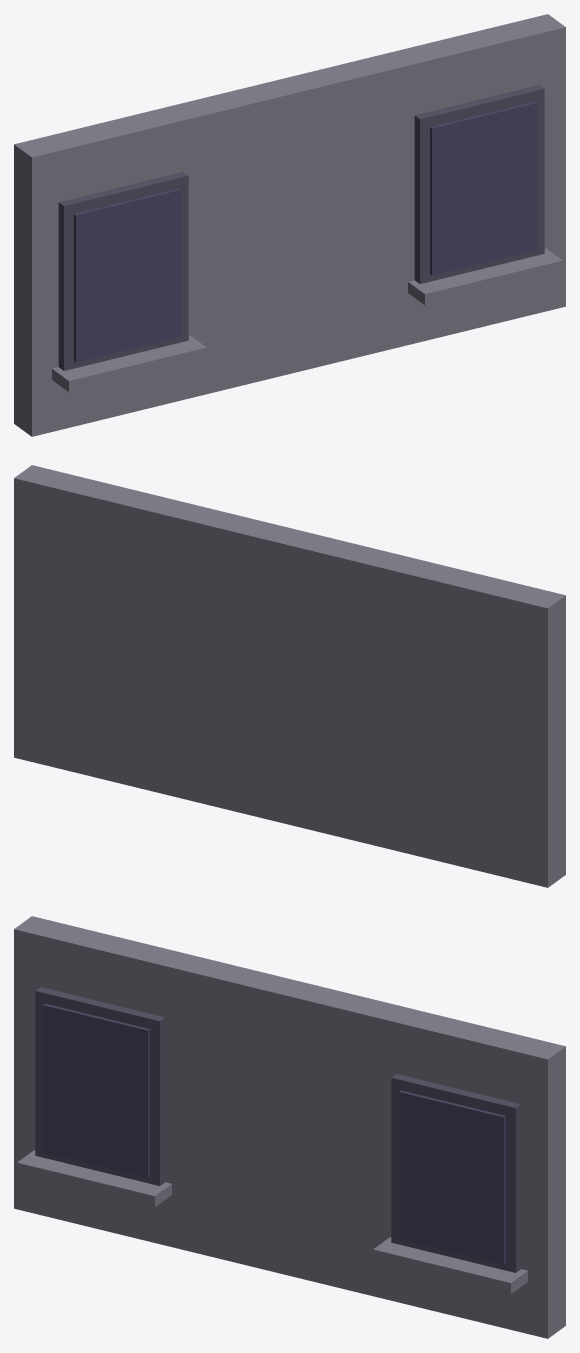
File: facade-damaged.glb
3 views of the same model, one above another, from view 1: azimuth 30°, elevation 25°; view 2: azimuth 150°, elevation 25°; view 3: azimuth 330°, elevation 25° (orthographic).
Parts seen in each view (by area): view 1: wall, window (×2), window-frame (×2), sill (×2); view 2: wall; view 3: wall, window (×2), window-frame (×2), sill (×2).
Part boxes in pixels (bbox=[...]): wall: bbox=[14, 14, 565, 436]; window (×2): bbox=[74, 101, 536, 362]; window-frame (×2): bbox=[58, 85, 544, 370]; sill (×2): bbox=[52, 248, 562, 392]; wall: bbox=[14, 465, 565, 887]; wall: bbox=[14, 916, 565, 1338]; window (×2): bbox=[43, 1003, 505, 1264]; window-frame (×2): bbox=[35, 987, 521, 1272]; sill (×2): bbox=[17, 1150, 527, 1294].
Bounding box in the file's own units: 6 × 3 × 0.68.
